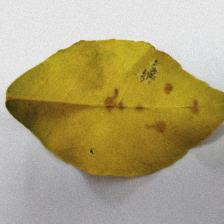black spot: (92, 54, 214, 137)
